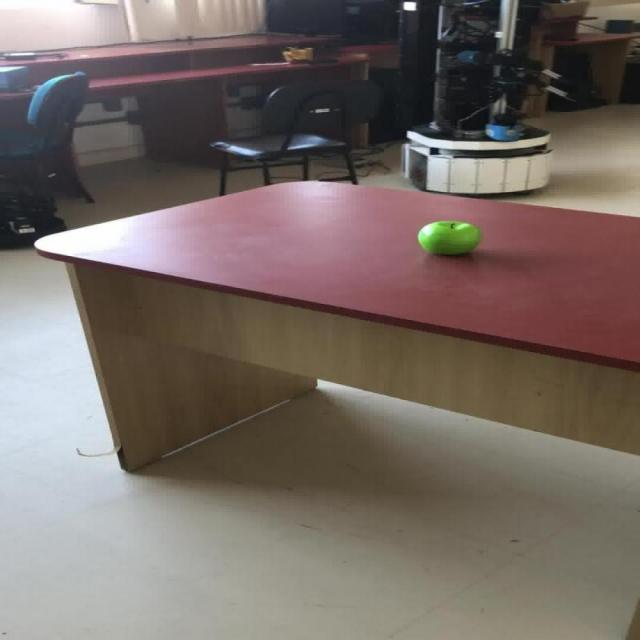Apple: (416, 220, 481, 255)
